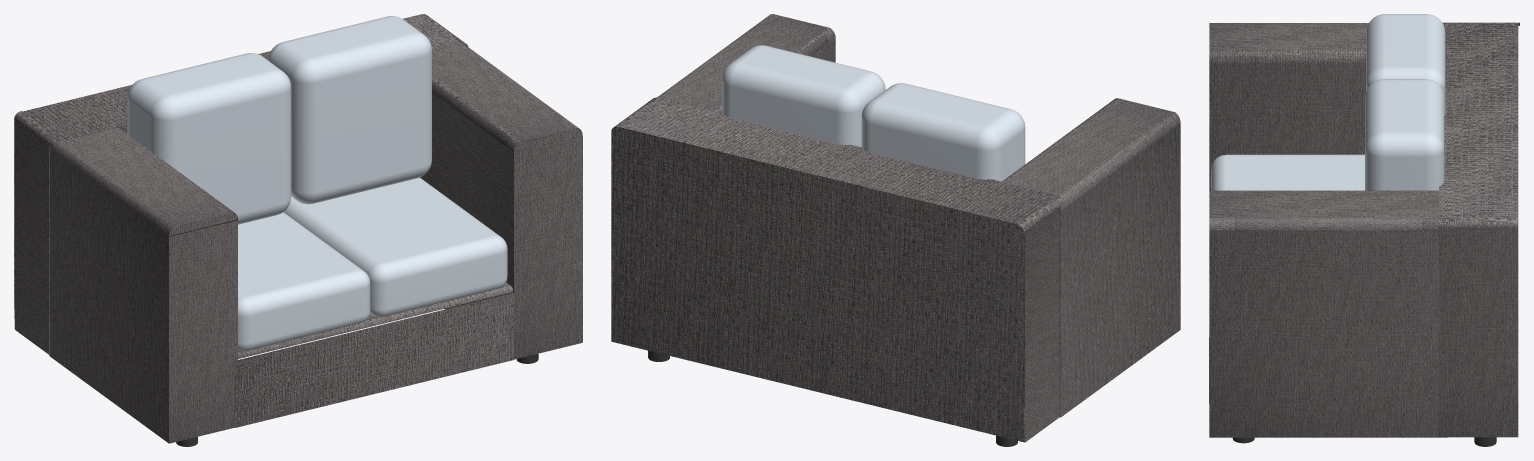
The model's file is Sillon.obj.
3 renders of one model, left to right at view 1: azimuth 30°, elevation 25°; view 2: azimuth 150°, elevation 25°; view 3: azimuth 270°, elevation 25°, orthographic.
Parts seen in each view (by area): view 1: Sillon:polySurface17; view 2: Sillon:polySurface17; view 3: Sillon:polySurface17.
Boxes of the visible parts, x1,y1,x2,y2 form: Sillon:polySurface17: [14, 14, 582, 446]; Sillon:polySurface17: [611, 14, 1180, 446]; Sillon:polySurface17: [1209, 14, 1519, 446].
Size of the model in its own units: 1.83 by 1.21 by 1.19.
3 materials, 3 textured.
